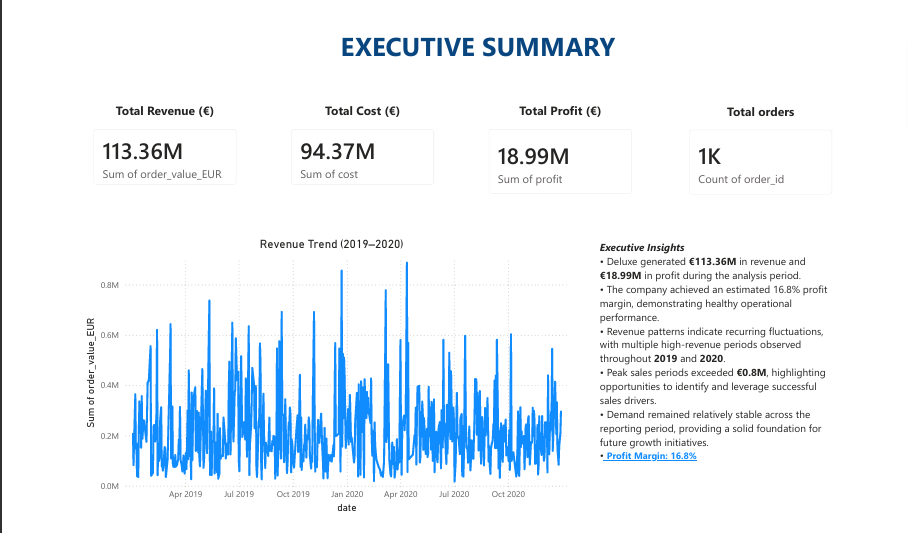

The page's visual inventory and layout, read from the dashboard file:
{"tool":"powerbi","page":{"name":"EXECUTIVE SUMMARY","canvas":[1280,720],"ordinal":0},"visuals":[{"type":"cardVisual","title":"Total Revenue (€)","fields":{"Data":["Sum(Sales-Export_2019-2020. order_value_EUR )"]},"box":[91.4,122.9,240,137.1],"z":0},{"type":"cardVisual","title":"Total Cost (€)","fields":{"Data":["Sum(Sales-Export_2019-2020. cost )"]},"box":[375.7,122.9,240,137.1],"z":1000},{"type":"cardVisual","title":"Total Profit (€)","fields":{"Data":["Sum(Sales-Export_2019-2020.profit)"]},"box":[661.4,122.9,240,150],"z":2000},{"type":"cardVisual","title":"Total orders","fields":{"Data":["CountNonNull(Sales-Export_2019-2020.order_id)"]},"box":[950,124.3,240,150],"z":3000},{"type":"lineChart","title":"Revenue Trend (2019–2020)","fields":{"Y":["Sum(Sales-Export_2019-2020. order_value_EUR )"],"Category":["Sales-Export_2019-2020.date"]},"box":[91.4,317.1,720,402.9],"z":4000},{"type":"textbox","box":[387.1,11.4,514.3,72.9],"z":4001},{"type":"textbox","box":[832.9,317.1,357.1,314.3],"z":4002}]}

Visuals, with their boxes in screenshot pixels (x1, y1, x2, y2), scaled from the page's 1280x720 canvas onto the 924x533 screenshot:
"Total Revenue (€)" cardVisual: l=66, t=91, r=239, b=192
"Total Cost (€)" cardVisual: l=271, t=91, r=444, b=192
"Total Profit (€)" cardVisual: l=477, t=91, r=651, b=202
"Total orders" cardVisual: l=686, t=92, r=859, b=203
"Revenue Trend (2019–2020)" lineChart: l=66, t=235, r=586, b=532
textbox: l=279, t=8, r=651, b=62
textbox: l=601, t=235, r=859, b=467
